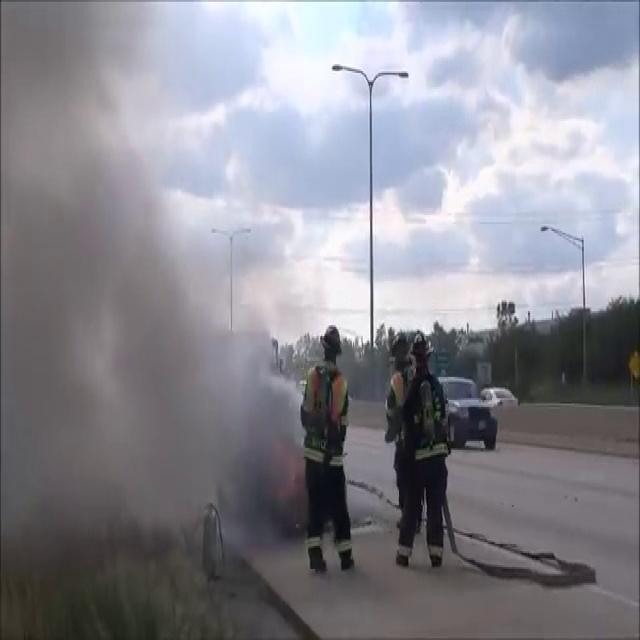Smoke: (2, 5, 306, 585)
